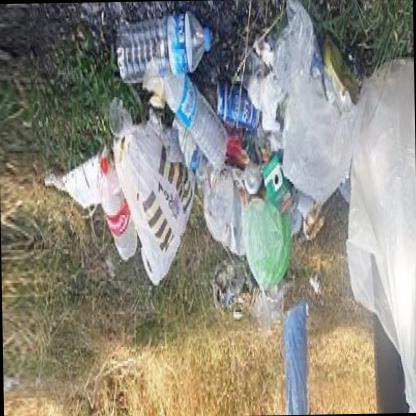Garbage: (197, 0, 367, 283), (338, 55, 415, 413), (134, 92, 198, 276), (56, 129, 164, 232), (109, 99, 156, 258), (120, 6, 214, 83)
